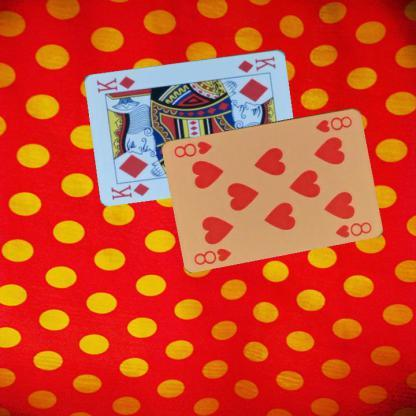8h: (191, 244, 233, 266), (313, 113, 354, 134)
Kd: (235, 53, 278, 74), (108, 180, 150, 201)
